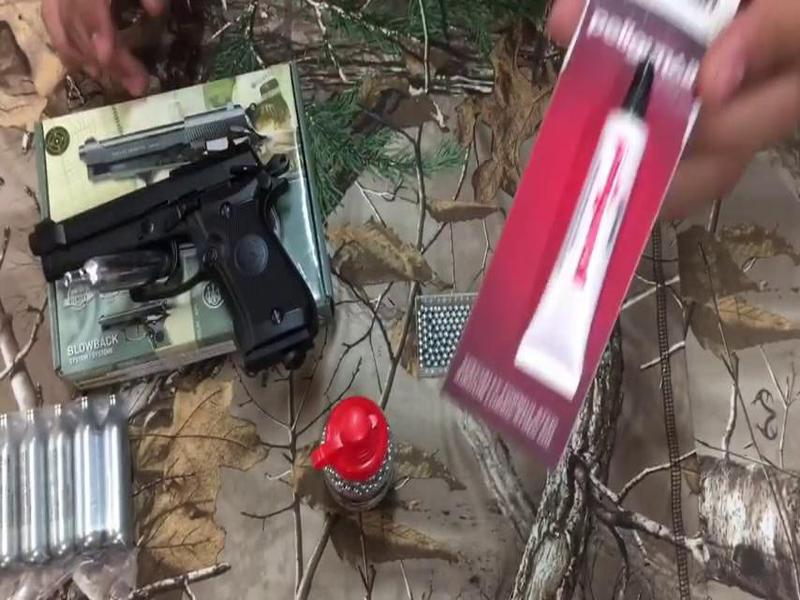Pistola: (36, 132, 348, 388)
